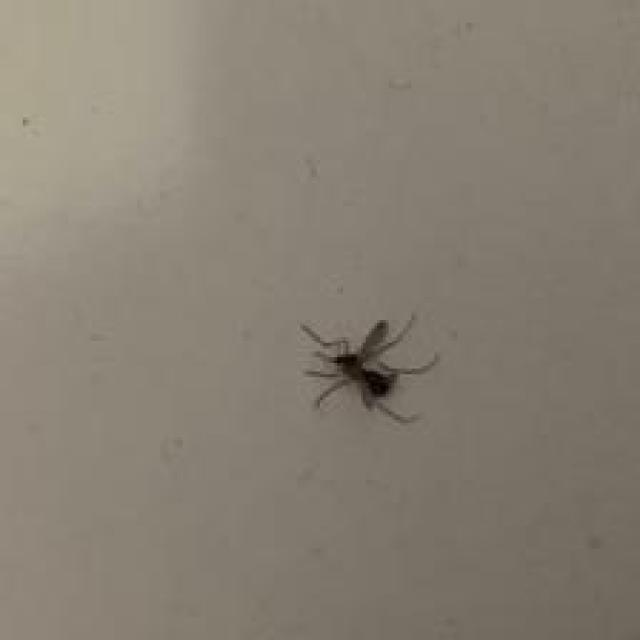Culex: (300, 311, 440, 426)
